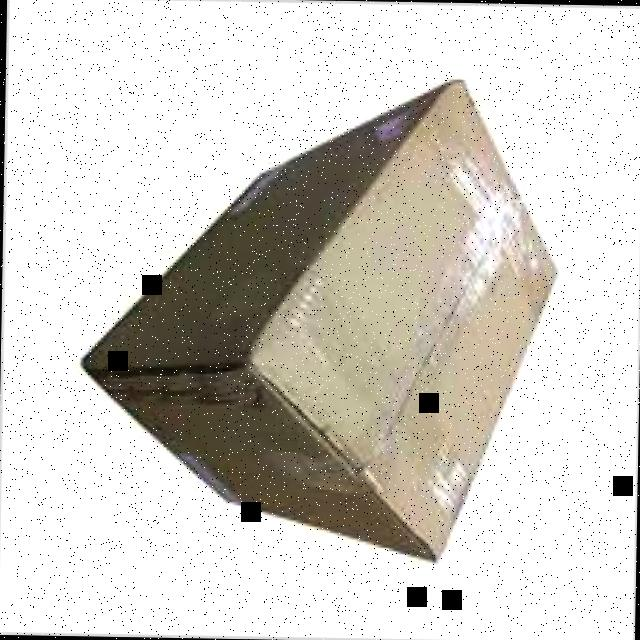cardboard_box: (61, 68, 566, 574)
